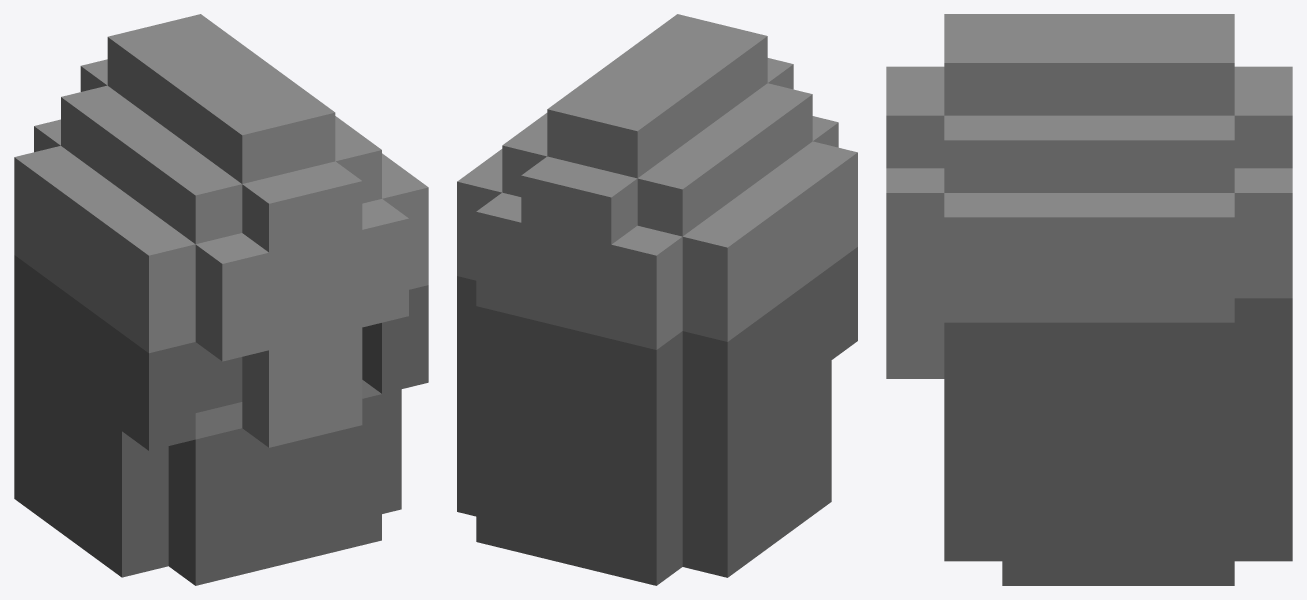
The model's file is character-196-helm_hvy_2d_ja.obj.
3 views of the same model, side by side, from view 1: azimuth 30°, elevation 25°; view 2: azimuth 150°, elevation 25°; view 3: azimuth 270°, elevation 25° (orthographic). The views are drawn at different scales.
Parts seen in each view (by area): view 1: helm_hvy_2d_ja; view 2: helm_hvy_2d_ja; view 3: helm_hvy_2d_ja.
Part boxes in pixels (x1,y1,x2,y2): helm_hvy_2d_ja: (14,14,428,585); helm_hvy_2d_ja: (457,14,857,585); helm_hvy_2d_ja: (886,14,1292,585).
Size of the model in its own units: 0.6 by 0.9 by 0.7.
1 material, 1 textured.
